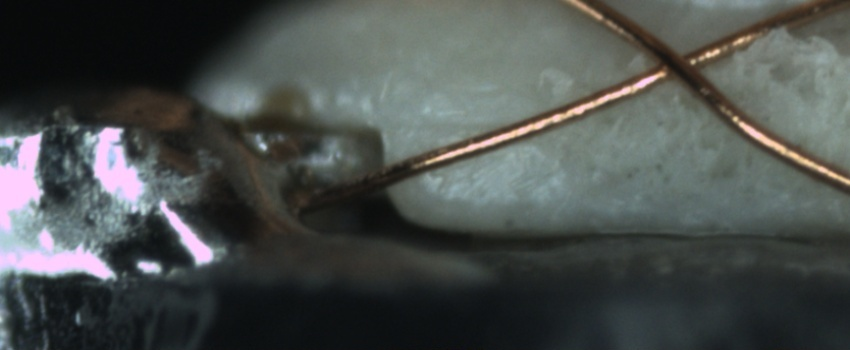CL: (627, 27, 726, 94)
DL: (423, 94, 521, 158)
